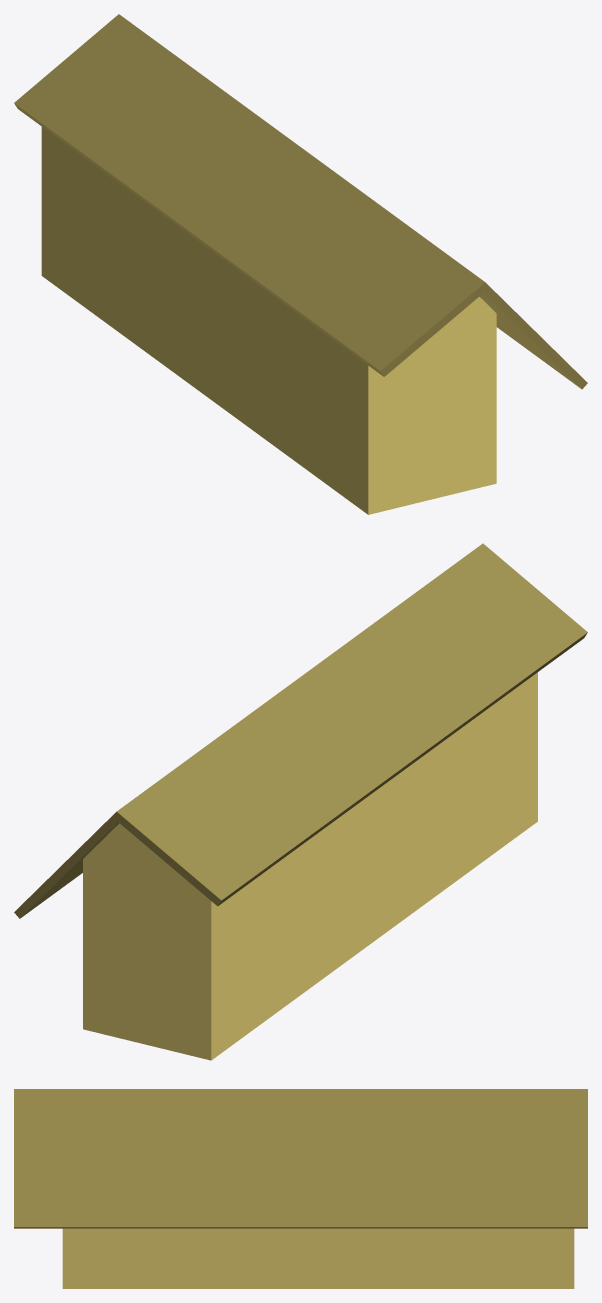
File: result.glb
The picture shows the model from 3 angles, top to bottom: view 1: azimuth 30°, elevation 25°; view 2: azimuth 150°, elevation 25°; view 3: azimuth 270°, elevation 25°; orthographic projection. The views are drawn at different scales.
Visible parts, largest first — view 1: 61034380-9e53-448e-a01f-690d29364d67__undefined, b89f4a5c-9a90-41fc-b5e3-bffbe2f5066d__undefined (×2); view 2: 61034380-9e53-448e-a01f-690d29364d67__undefined, b89f4a5c-9a90-41fc-b5e3-bffbe2f5066d__undefined (×2); view 3: b89f4a5c-9a90-41fc-b5e3-bffbe2f5066d__undefined, 61034380-9e53-448e-a01f-690d29364d67__undefined.
Part boxes in pixels (x1=…): 61034380-9e53-448e-a01f-690d29364d67__undefined: x1=41, y1=127, x2=496, y2=514; b89f4a5c-9a90-41fc-b5e3-bffbe2f5066d__undefined (×2): x1=14, y1=14, x2=587, y2=389; 61034380-9e53-448e-a01f-690d29364d67__undefined: x1=83, y1=672, x2=537, y2=1060; b89f4a5c-9a90-41fc-b5e3-bffbe2f5066d__undefined (×2): x1=14, y1=543, x2=587, y2=918; b89f4a5c-9a90-41fc-b5e3-bffbe2f5066d__undefined: x1=14, y1=1089, x2=587, y2=1228; 61034380-9e53-448e-a01f-690d29364d67__undefined: x1=62, y1=1228, x2=574, y2=1288.
Size of the model in its own units: 682 by 736 by 2084.
